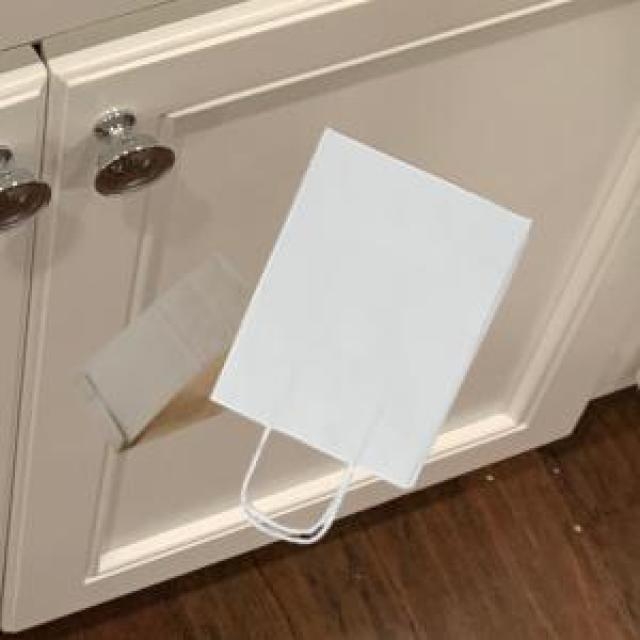paper: (207, 124, 527, 538), (66, 250, 250, 450)
